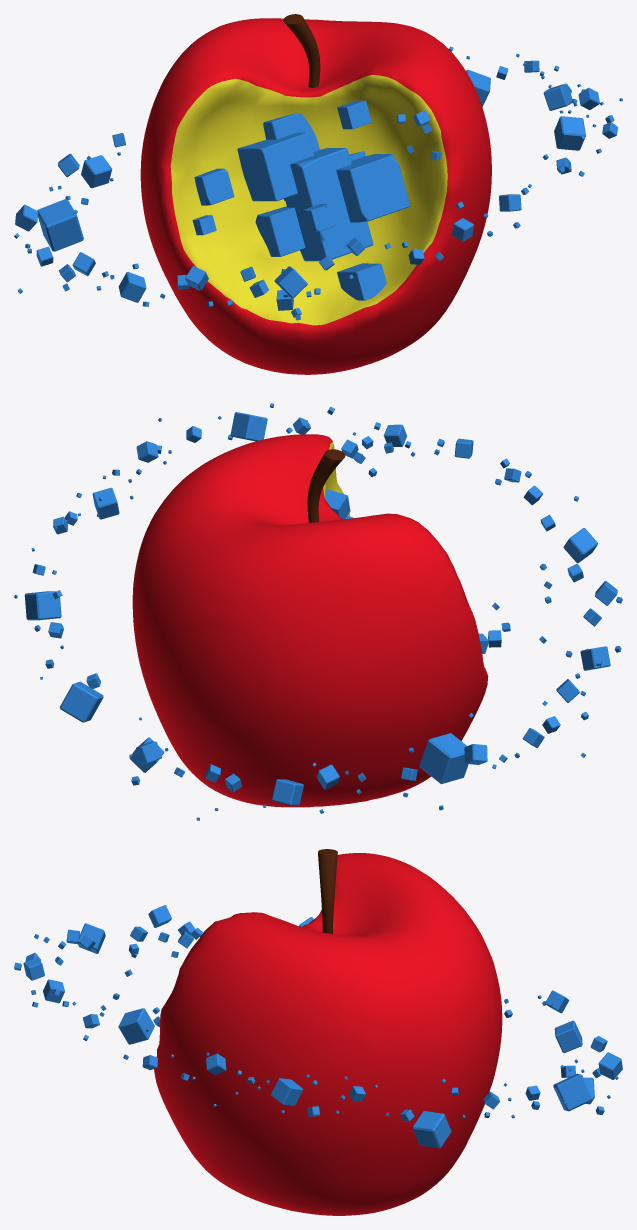
Rendered from cube_isaac newton_apple a whole.fbx.
3 views of the same model, one above another, from view 1: azimuth 30°, elevation 25°; view 2: azimuth 150°, elevation 25°; view 3: azimuth 270°, elevation 25° (orthographic). The views are drawn at different scales.
Parts seen in each view (by area): view 1: apple crater.001, 立方体.004, 立方体.055, geng; view 2: apple crater.001, 立方体.055, 立方体.004, geng; view 3: apple crater.001, 立方体.055, geng, 立方体.004.
Part boxes in pixels (x1,y1,x2,y2): apple crater.001: (140,18,491,374); 立方体.004: (192,100,441,320); 立方体.055: (14,46,622,307); geng: (283,14,320,87); apple crater.001: (132,434,488,807); 立方体.055: (14,403,622,820); 立方体.004: (324,436,551,654); geng: (307,449,345,522); apple crater.001: (154,853,502,1215); 立方体.055: (14,905,622,1148); geng: (318,849,337,933); 立方体.004: (112,927,202,1027).
Bounding box in the file's own units: 374 × 218 × 374.
